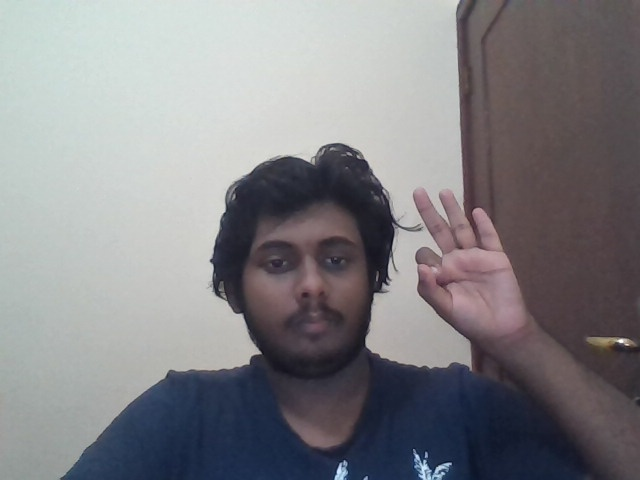ok: (411, 182, 528, 341)
